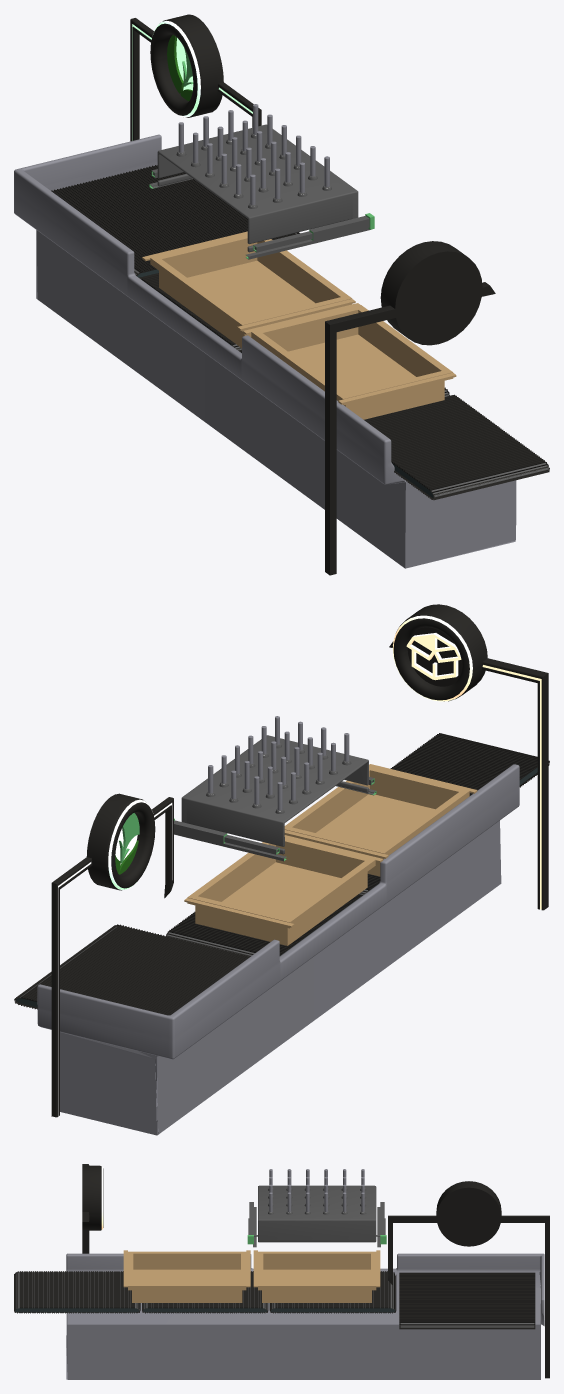
Rendered from harvesting.glb.
The picture shows the model from 3 angles, top to bottom: view 1: azimuth 30°, elevation 25°; view 2: azimuth 150°, elevation 25°; view 3: azimuth 270°, elevation 25°; orthographic projection. The views are drawn at different scales.
Parts seen in each view (by area): view 1: Cube, new_arm_plate.002, Cylinder.001, new_arm_plate.003, belte.003, belte.004, kontainer, Cylinder, Sylinder, Plane.007, Pumpe, bot.002 (+2 smaller); view 2: Cube, new_arm_plate.002, belte.004, new_arm_plate.003, Cylinder.001, kontainer, Cylinder, belte.003, Sylinder, belte.001, Cube.001, Plane.007 (+2 smaller); view 3: Cube, belte.004, new_arm_plate.003, new_arm_plate.002, kontainer, Cylinder, belte.003, belte.001, belte.002, Cylinder.001, Sylinder, Pumpe (+2 smaller).
Part boxes in pixels (x1,y1,x2,y2): Cube: (14,134,516,568); new_arm_plate.002: (142,231,355,347); Cylinder.001: (325,241,495,575); new_arm_plate.003: (243,303,456,419); belte.003: (364,394,549,500); belte.004: (51,165,299,277); kontainer: (157,124,358,252); Cylinder: (130,14,261,141); Sylinder: (178,104,329,204); Plane.007: (167,35,193,101); Pumpe: (176,132,331,208); bot.002: (309,213,374,241); Cube: (37,764,519,1135); new_arm_plate.002: (184,835,383,945); belte.004: (14,924,250,1015); new_arm_plate.003: (284,764,477,876); Cylinder.001: (389,604,548,910); kontainer: (181,735,368,854); Cylinder: (51,793,173,1117); belte.003: (390,733,549,795); Sylinder: (208,716,349,810); belte.001: (166,894,362,956); Cube.001: (406,633,461,680); Plane.007: (115,813,139,874); Cube: (66,1253,544,1379); belte.004: (399,1272,535,1329); new_arm_plate.003: (123,1250,250,1302); new_arm_plate.002: (253,1250,380,1302); kontainer: (258,1185,376,1242); Cylinder: (388,1181,549,1378); belte.003: (14,1271,140,1313); belte.001: (269,1271,396,1313); belte.002: (142,1271,268,1313); Cylinder.001: (82,1164,103,1253); Sylinder: (269,1169,364,1211); Pumpe: (268,1187,366,1214).
Size of the model in its own units: 2.69 by 3.45 by 8.79.
